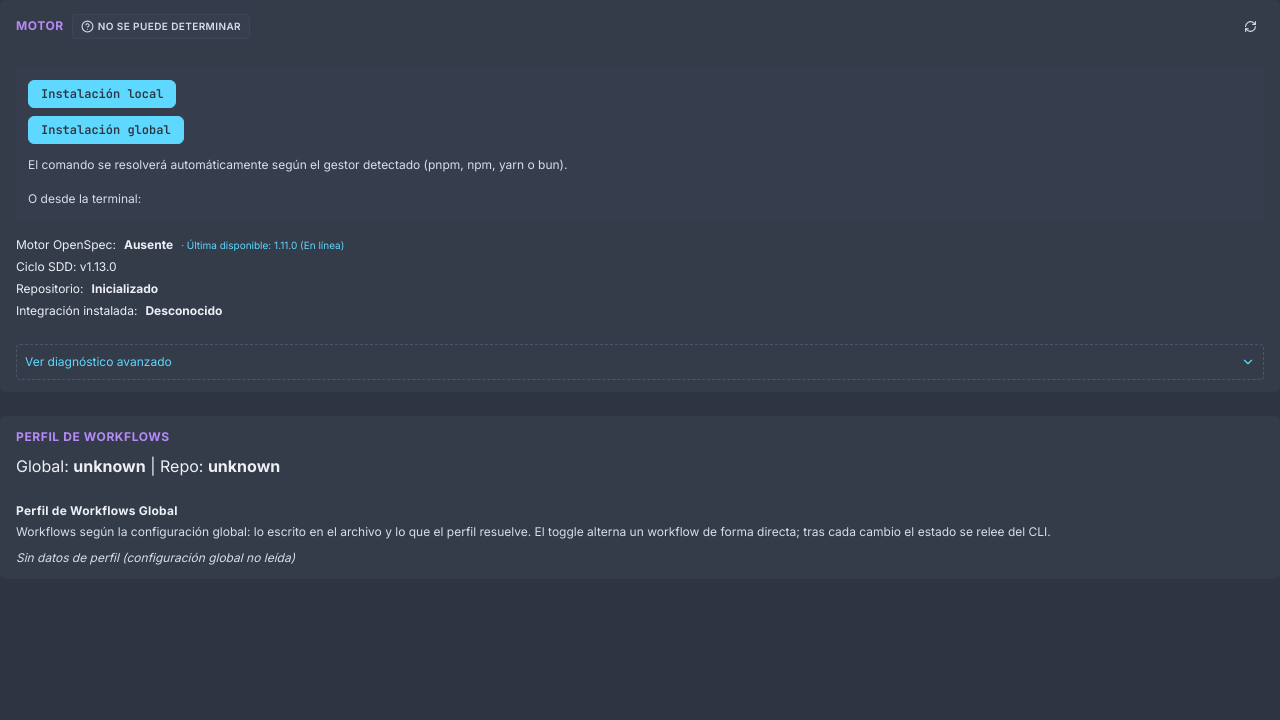
OpenSpecEngineCard (UI Audit Tests & Jerarquía) › Superficie de motor e instalación honesta (Grupo 9: 9.1, 9.2, 9.3, 9.5) › 9.3: al confirmar la instalación global, ejecuta pipelineOpenSpec.installGlobal y reporta resultado
Click the button "Instalación global".
click(106, 130)  # box [28, 116, 184, 144]
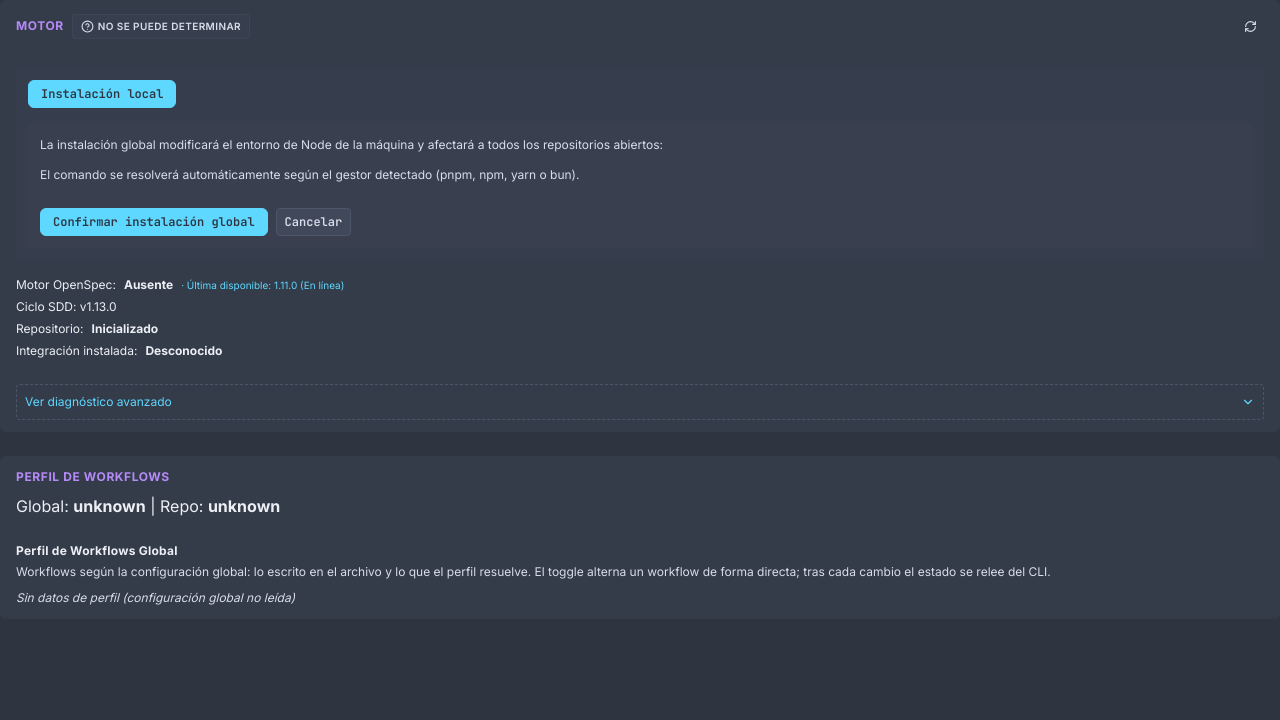
Click the button "Confirmar instalación global".
click(154, 222)  # box [40, 208, 268, 236]
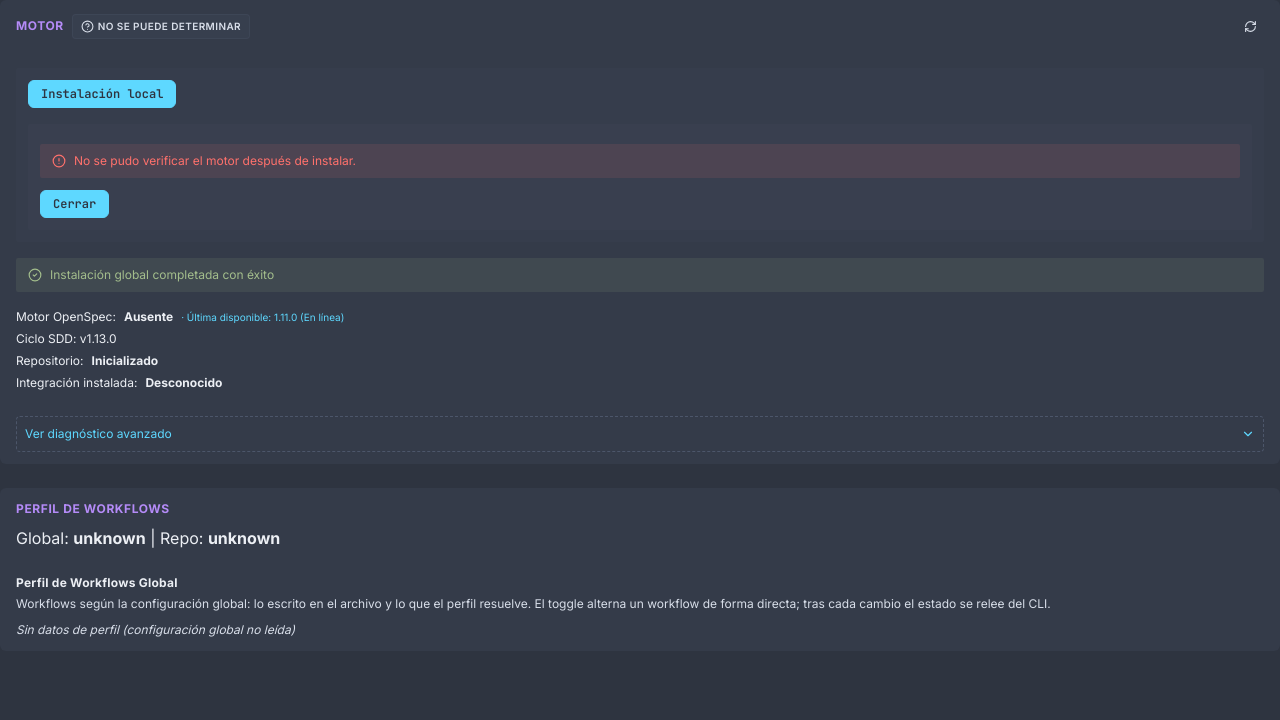
Expected: the text "Instalación global completada con éxito" is shown, [50, 266, 274, 284]
